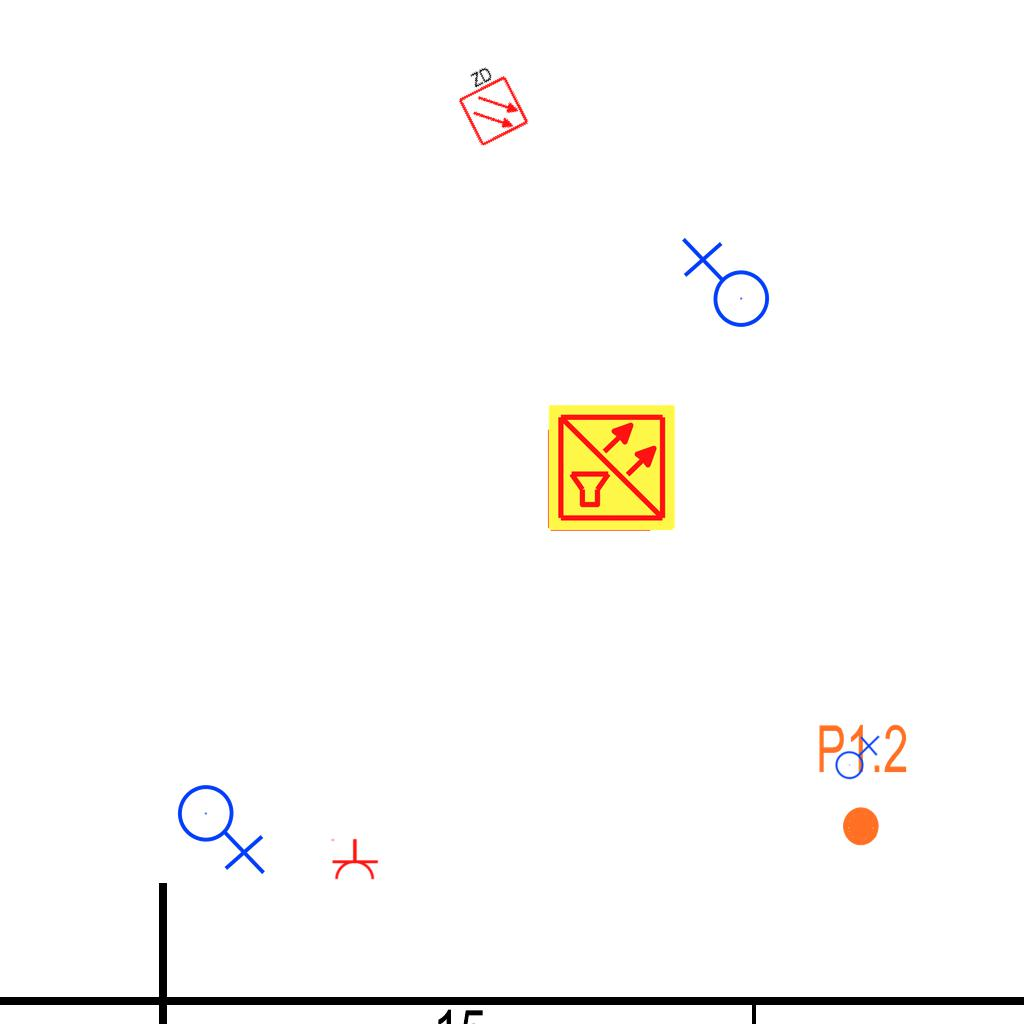Downlight_LED_Einbauleuchten_Flur: (816, 721, 909, 849)
Elektroanschluss_allgemein_230V_Geraeteanschlussdose_230V: (176, 776, 270, 875), (677, 237, 771, 336), (831, 733, 880, 780)
OKW_Multisensormelder_(Kombination_optischer_Rauch-Kahlenmonoxid_Waerme-Melder): (546, 402, 678, 534)
Schukosteckdose_einfach: (329, 838, 379, 881)
ZD_Melder_in_Zwischendecke_mit_Revisionsoeffnung_mind_40_x_40_cm: (446, 57, 531, 149)
